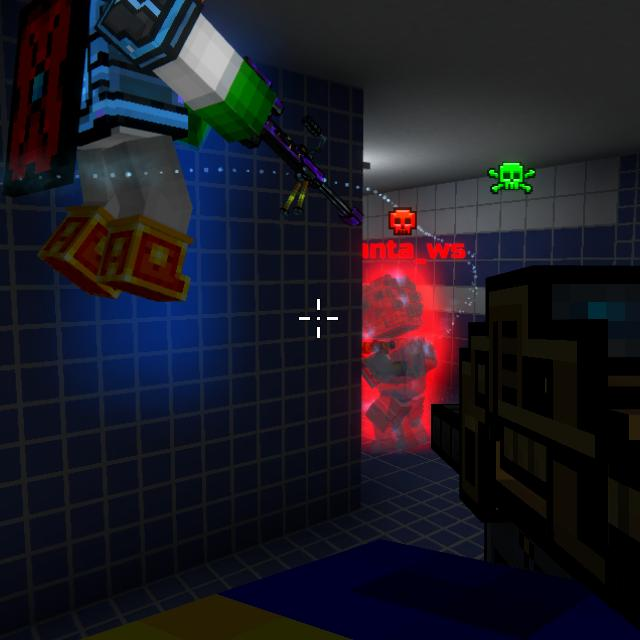Enemy: (362, 275, 439, 453)
